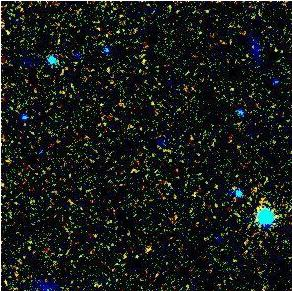star: (133, 240, 163, 270)
